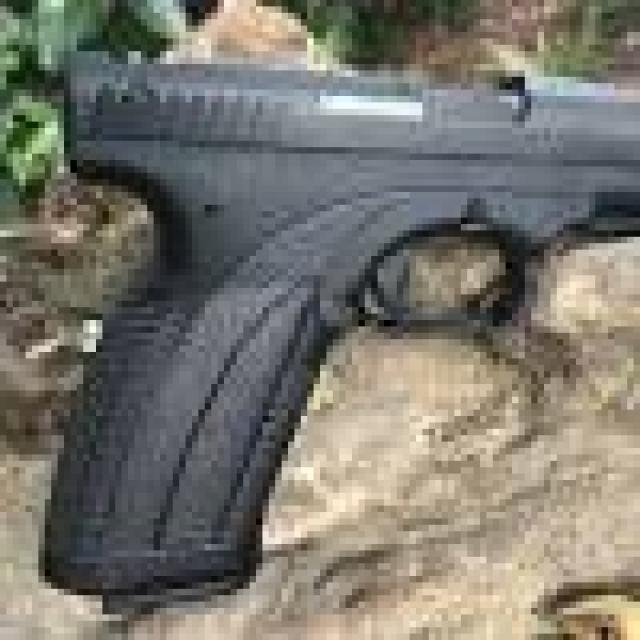Gun: (39, 22, 640, 609)
